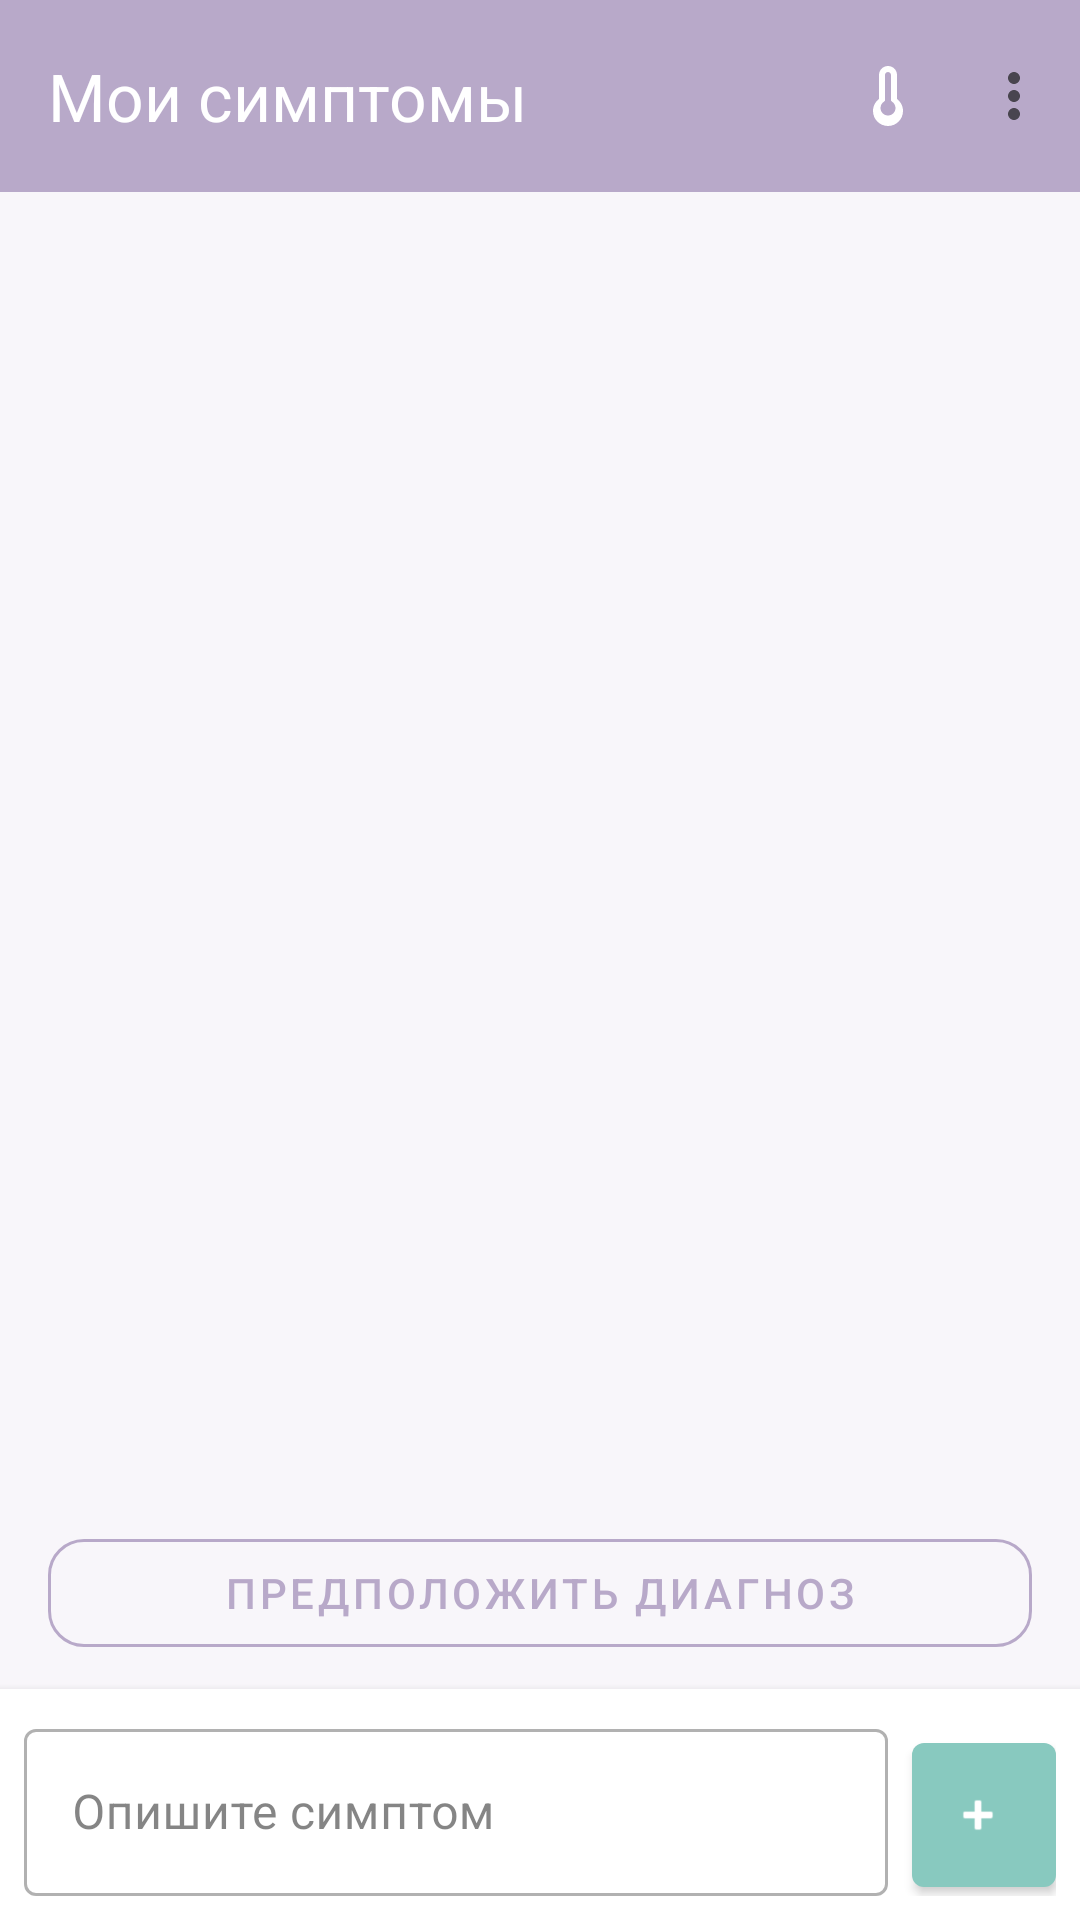

Locate icon controls on the screen. Image size 1080px x 1920px, boxes as box=[x1, y1, x2, y2].
add: box=[912, 1743, 1056, 1887]
